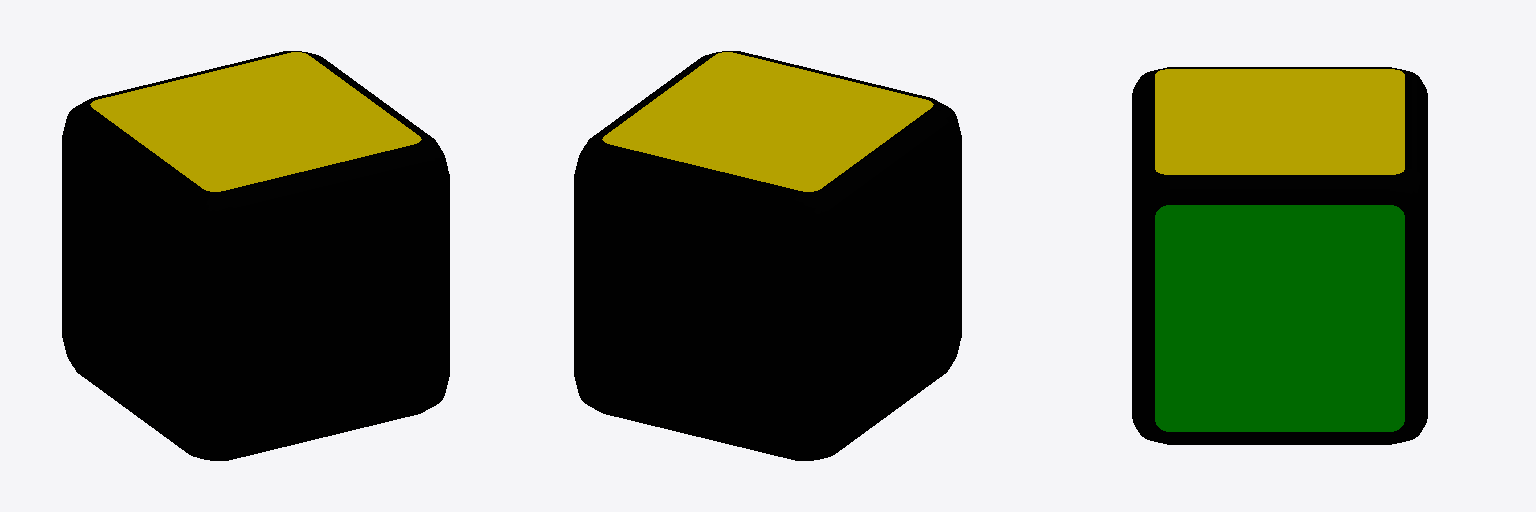
The model's file is edge_gy.obj.
3 views of the same model, side by side, from view 1: azimuth 30°, elevation 25°; view 2: azimuth 150°, elevation 25°; view 3: azimuth 270°, elevation 25° (orthographic).
Visible parts, largest first — view 1: Cube; view 2: Cube; view 3: Cube.
Boxes of the visible parts, x1=… form: Cube: x1=62, y1=51, x2=449, y2=460; Cube: x1=574, y1=51, x2=961, y2=460; Cube: x1=1132, y1=67, x2=1427, y2=444.
Size of the model in its own units: 2 by 2 by 2.